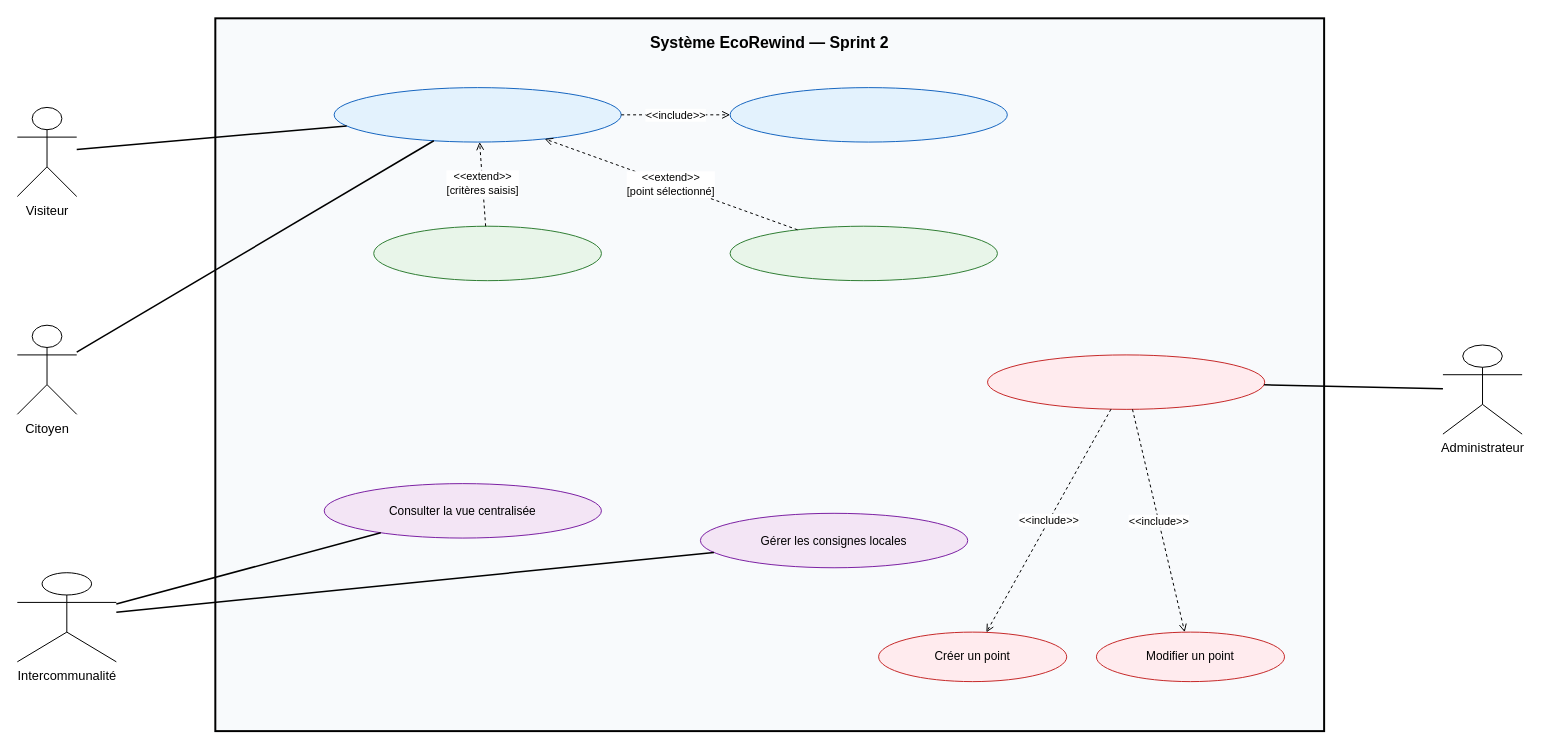
Image size: 1541x748. Some labels were removed from this diagram. The centre of each missing label's shape, as x and y in pixels:
Afficher le détail d'un point: the point at 863,253
Afficher les points sur la carte: the point at 868,114
Consulter les points de collecte: the point at 477,114
Gérer les points de collecte: the point at 1126,381
Rechercher et filtrer: the point at 487,253
